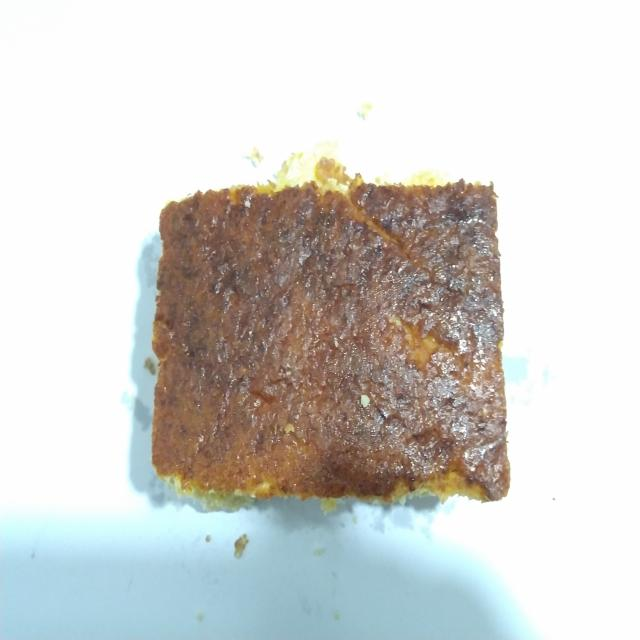Food: (136, 160, 523, 533)
